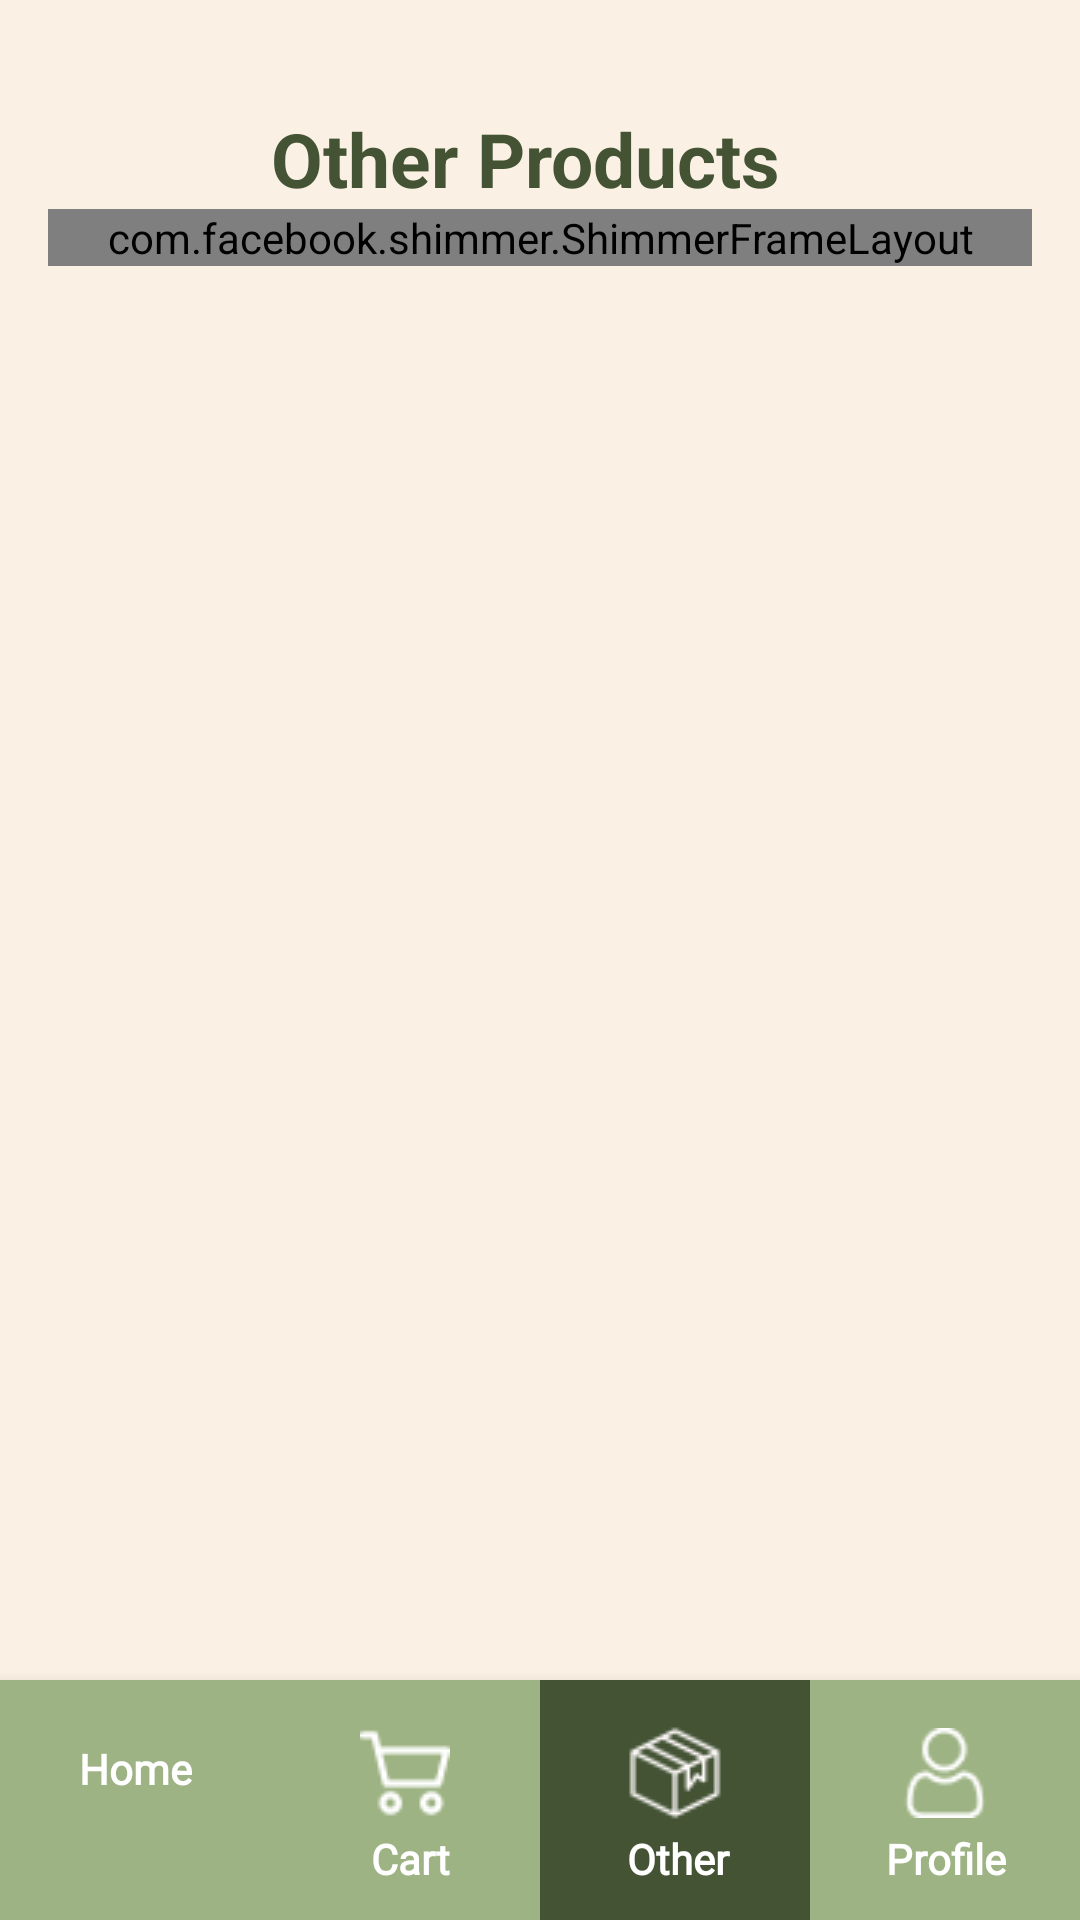

Icon bounding boxes for this 1080x1920 phone screenshot, format (x1, y1, x2, y2):
box: (629, 1727, 721, 1819)
